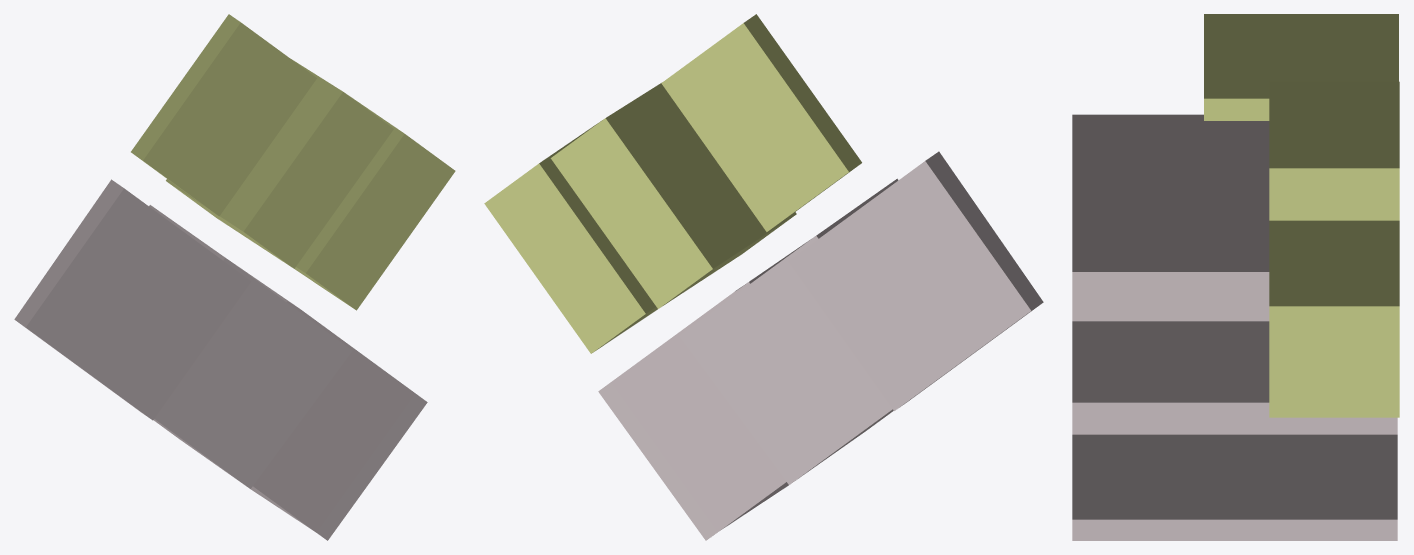
3 views of the same model, side by side, from view 1: azimuth 30°, elevation 25°; view 2: azimuth 150°, elevation 25°; view 3: azimuth 270°, elevation 25° (orthographic). The views are drawn at different scales.
Parts seen in each view (by area): view 1: 0_2_3_2_2_3_1_1_0_1; view 2: 0_2_3_2_2_3_1_1_0_1; view 3: 0_2_3_2_2_3_1_1_0_1.
Boxes of the visible parts, x1,y1,x2,y2 form: 0_2_3_2_2_3_1_1_0_1: (14,14,455,540); 0_2_3_2_2_3_1_1_0_1: (484,14,1043,540); 0_2_3_2_2_3_1_1_0_1: (1072,14,1399,540).
Bounding box in the file's own units: 26.62 × 27.72 × 15.08.
